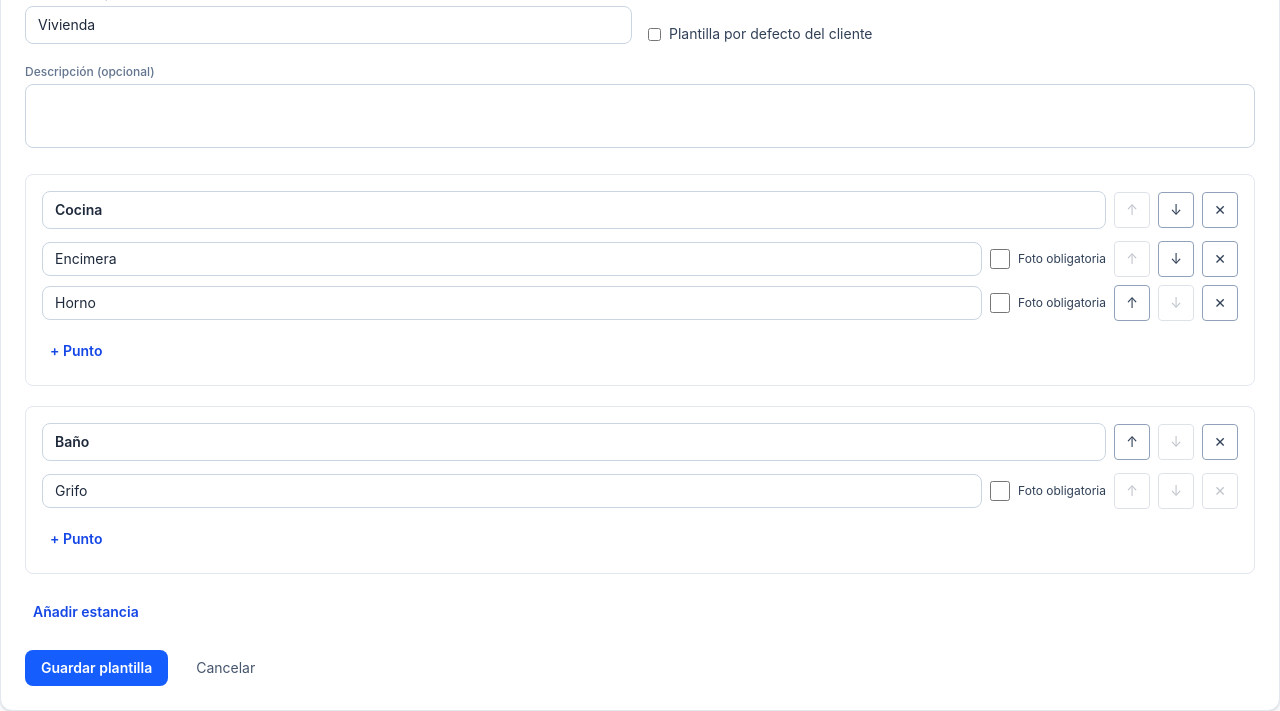
EditorPlantilla › muestra los errores de validación del servidor
(page scrolled)
Click the button "Guardar plantilla" at point(97, 668), box top-left (25, 650), bottom-right (168, 686)
(page scrolled)
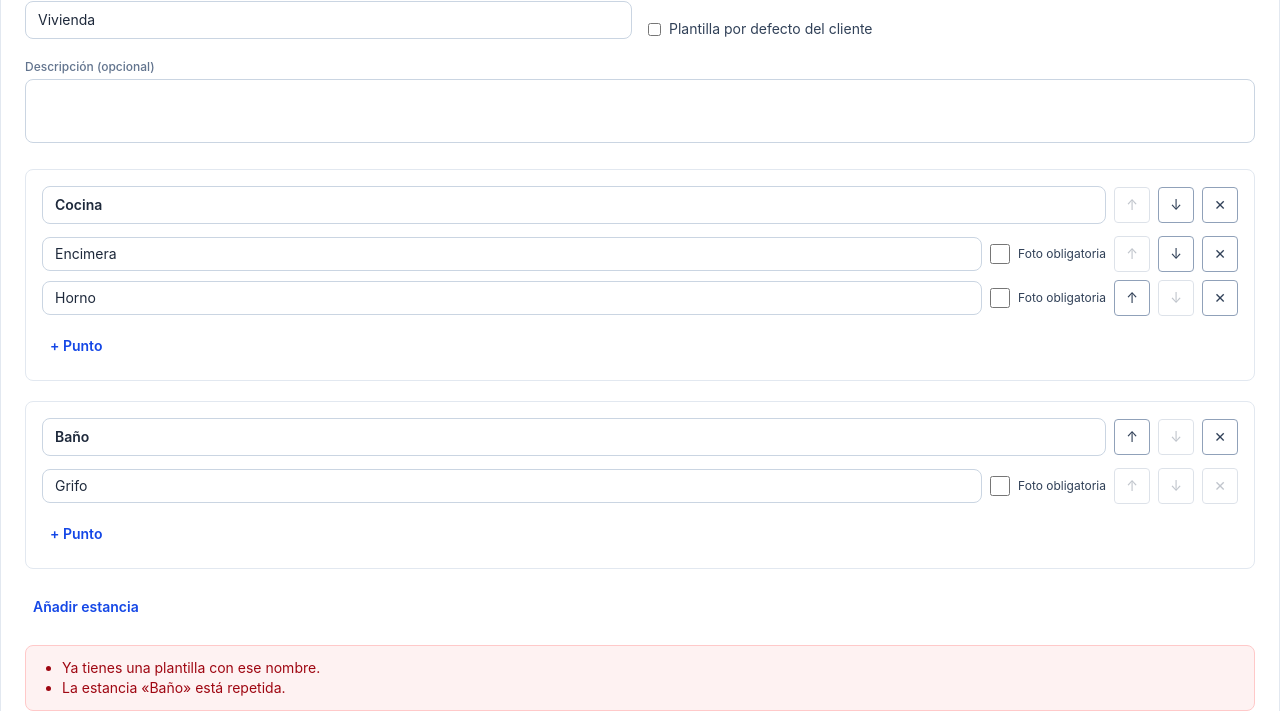
Now the message shows "Ya tienes una plantilla con ese nombre", box top-left (62, 659), bottom-right (320, 676)
Now the message shows "está repetida", box top-left (62, 679), bottom-right (286, 696)
